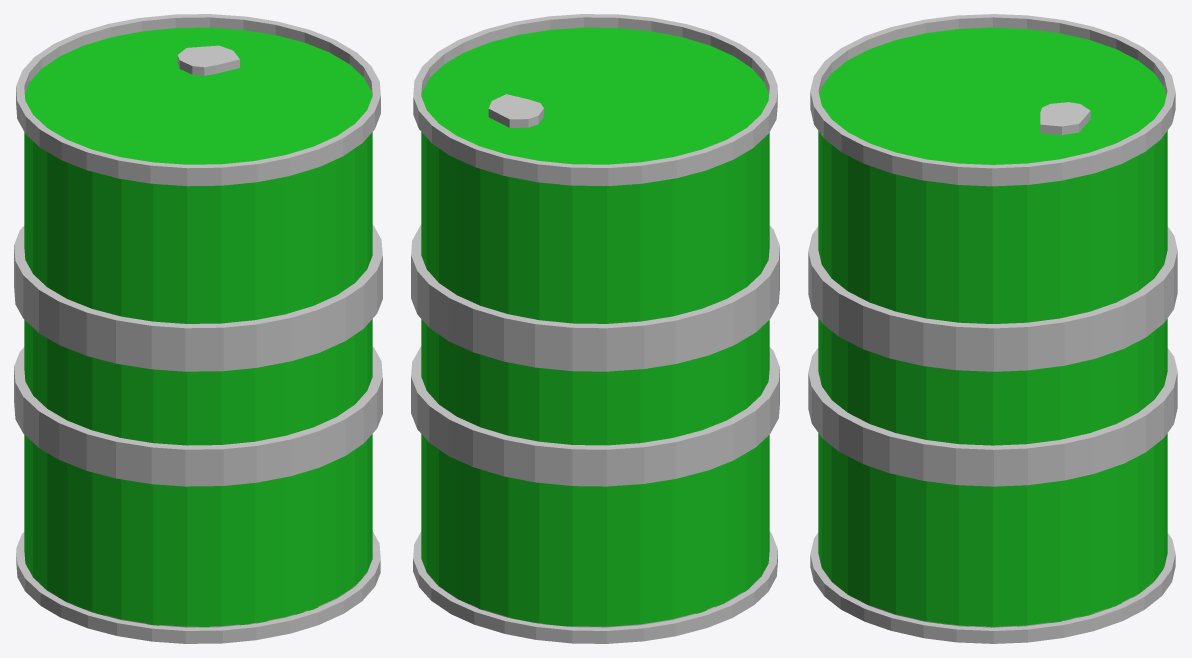
File: ドラム缶緑.fbx
3 views of the same model, side by side, from view 1: azimuth 30°, elevation 25°; view 2: azimuth 150°, elevation 25°; view 3: azimuth 270°, elevation 25° (orthographic).
Visible parts, largest first — view 1: Cylinder; view 2: Cylinder; view 3: Cylinder.
Part boxes in pixels (box(x1,y1,x2,y2)): Cylinder: box(14, 14, 382, 643); Cylinder: box(411, 14, 779, 643); Cylinder: box(808, 14, 1177, 643).
Size of the model in its own units: 212 by 301 by 212.
